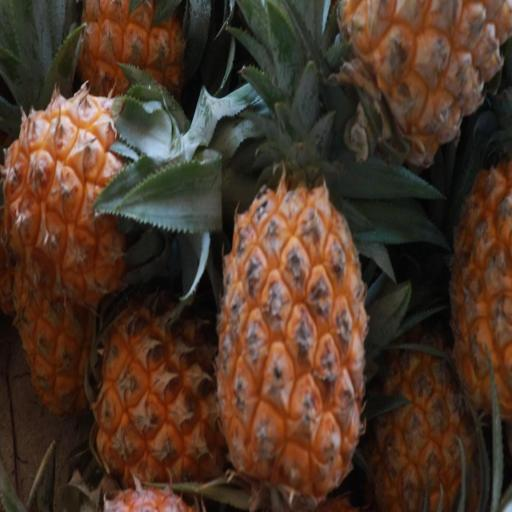Pineapple - v8 v1: (218, 142, 374, 506), (0, 78, 154, 306), (329, 0, 512, 189), (92, 287, 230, 493), (445, 118, 512, 442), (71, 0, 192, 146)
